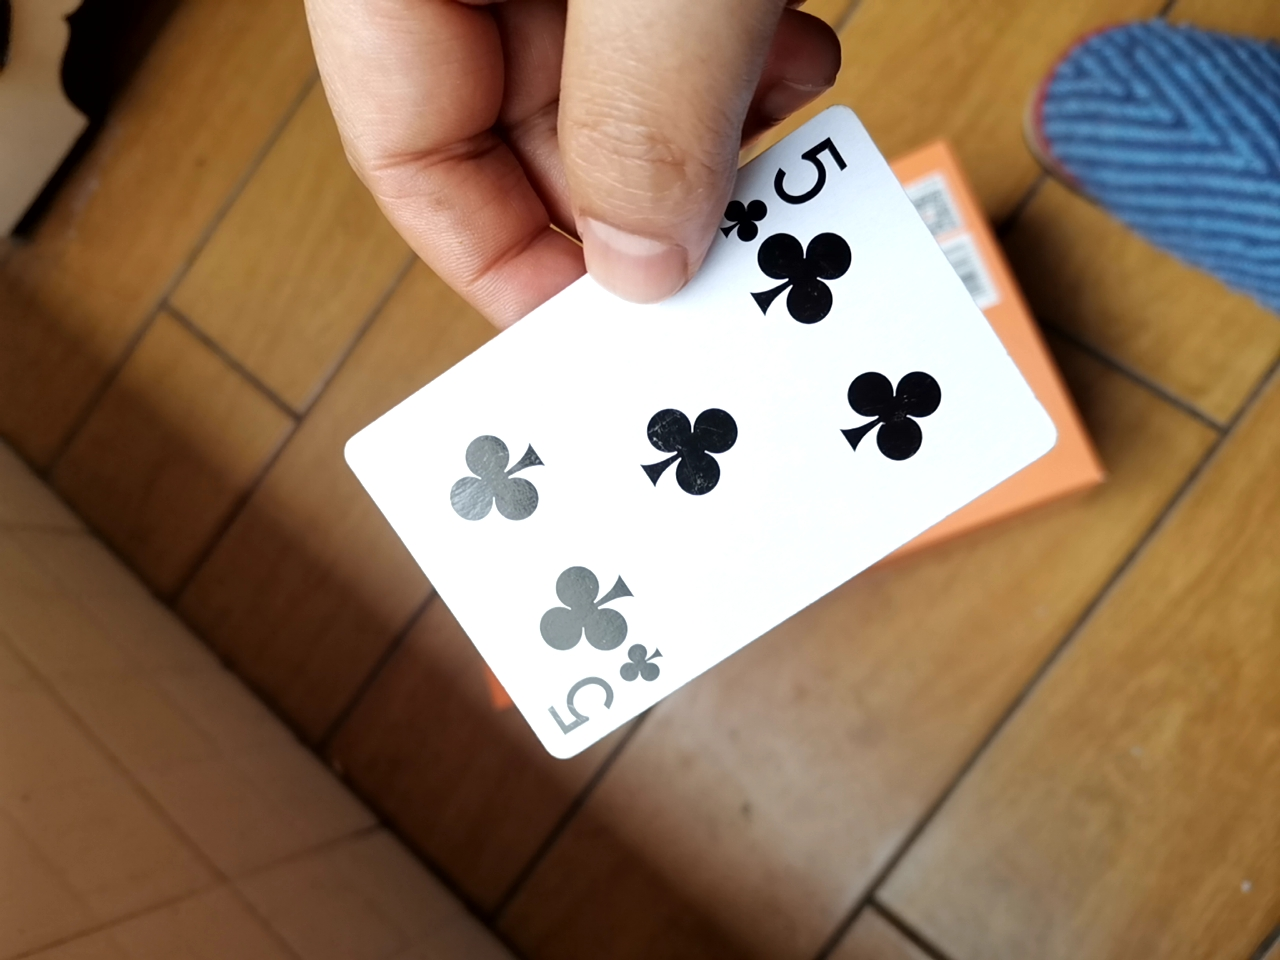mh 5: (312, 109, 1080, 781)
